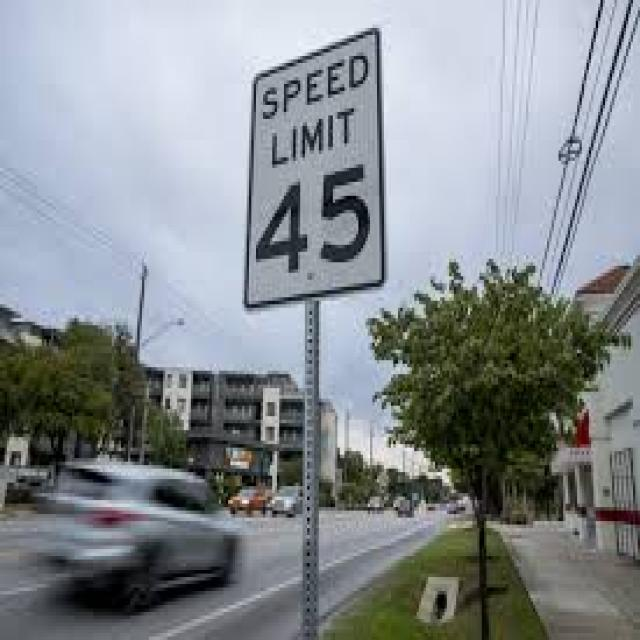speedLimit45: (240, 25, 391, 298)
